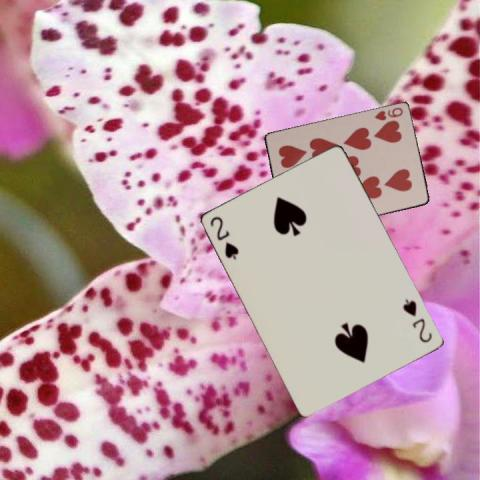2s: (206, 213, 240, 261), (400, 296, 434, 344)
9h: (371, 105, 404, 122)
